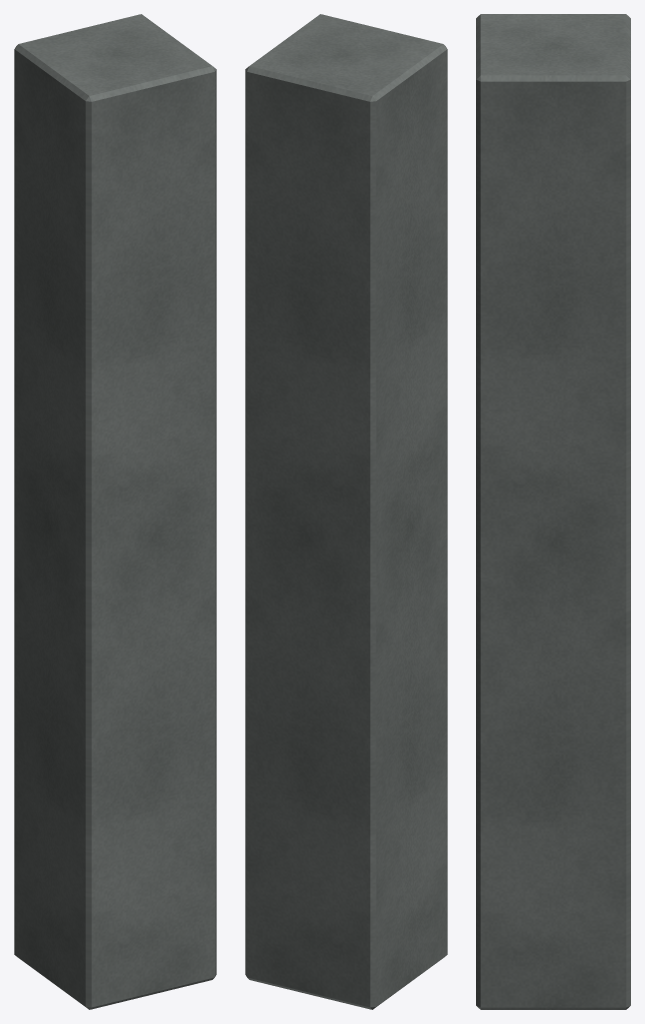
File: concrete-column.glb
3 views of the same model, side by side, from view 1: azimuth 30°, elevation 25°; view 2: azimuth 150°, elevation 25°; view 3: azimuth 270°, elevation 25° (orthographic). The views are drawn at different scales.
Parts seen in each view (by area): view 1: Column; view 2: Column; view 3: Column.
Boxes of the visible parts, box(x1,y1,x2,y2) form: Column: box(14, 14, 216, 1009); Column: box(245, 14, 447, 1009); Column: box(476, 14, 630, 1009).
Size of the model in its own units: 0.6 by 4 by 0.6.
1 material, 1 textured.
